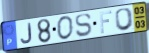8: (37, 18, 52, 44)
F: (98, 10, 113, 35)
J: (20, 22, 34, 45)
O: (114, 7, 135, 32), (56, 15, 75, 41)
S: (74, 13, 93, 39)
